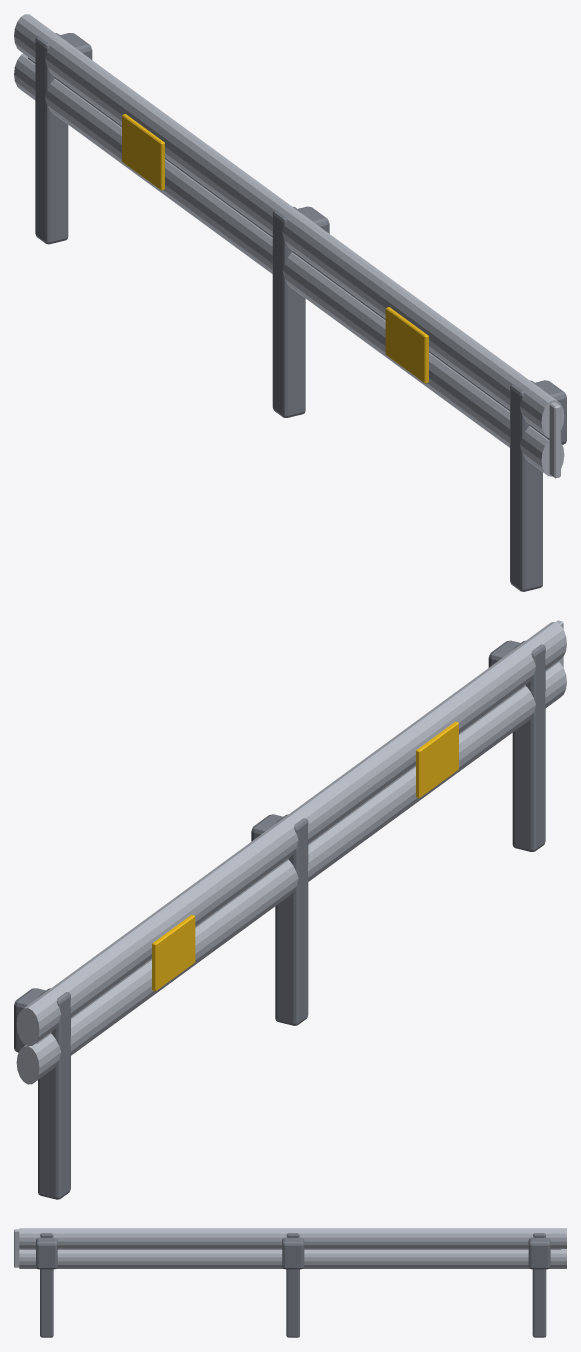
Rendered from guardrail.glb.
3 renders of one model, top to bottom at view 1: azimuth 30°, elevation 25°; view 2: azimuth 150°, elevation 25°; view 3: azimuth 270°, elevation 25°, orthographic. The views are drawn at different scales.
Parts seen in each view (by area): view 1: Rail_beam.001, Rail_beam, Rail_post.002, Rail_post, Rail_post.004, Rail_stripe.001, Rail_stripe, Rail_back; view 2: Rail_beam.001, Rail_beam, Rail_post.002, Rail_post.004, Rail_post, Rail_stripe, Rail_stripe.001, Rail_back; view 3: Rail_beam.001, Rail_beam, Rail_post, Rail_post.004, Rail_post.002, Rail_post.001, Rail_post.003, Rail_back, Rail_post.005.
Part boxes in pixels (box(x1,y1,x2,y2)): Rail_beam.001: box(14, 14, 564, 438); Rail_beam: box(14, 53, 564, 476); Rail_post.002: box(272, 206, 305, 417); Rail_post: box(35, 33, 68, 244); Rail_post.004: box(510, 380, 542, 591); Rail_stripe.001: box(385, 307, 428, 383); Rail_stripe: box(122, 114, 164, 190); Rail_back: box(28, 57, 560, 478); Rail_beam.001: box(16, 622, 566, 1046); Rail_beam: box(16, 662, 566, 1084); Rail_post.002: box(275, 814, 308, 1025); Rail_post.004: box(512, 640, 545, 851); Rail_post: box(38, 988, 70, 1199); Rail_stripe: box(152, 915, 195, 991); Rail_stripe.001: box(416, 721, 458, 798); Rail_back: box(36, 620, 563, 1043); Rail_beam.001: box(19, 1228, 566, 1248); Rail_beam: box(19, 1249, 566, 1268); Rail_post: box(532, 1233, 546, 1337); Rail_post.004: box(40, 1233, 53, 1337); Rail_post.002: box(286, 1233, 299, 1337); Rail_post.001: box(528, 1237, 550, 1269); Rail_post.003: box(282, 1237, 304, 1269); Rail_back: box(14, 1229, 561, 1267); Rail_post.005: box(36, 1237, 57, 1269).
Bounding box in the file's own units: 0.21 × 0.86 × 4.04.
